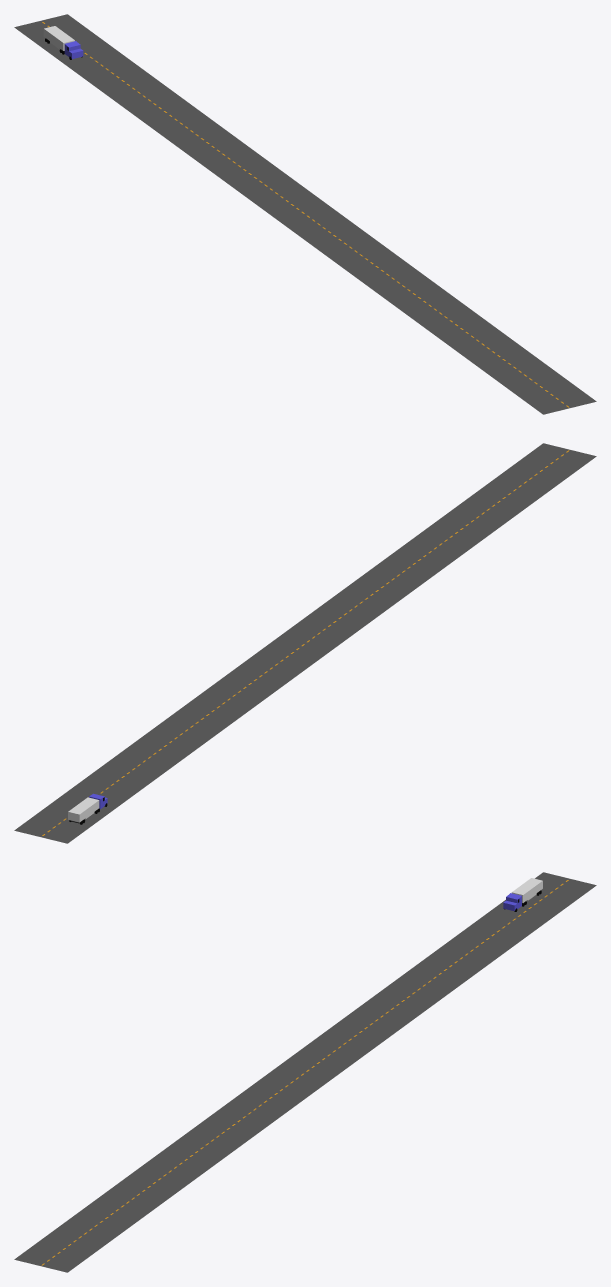
Rendered from LowPolyTruck.glb.
The picture shows the model from 3 angles, top to bottom: view 1: azimuth 30°, elevation 25°; view 2: azimuth 150°, elevation 25°; view 3: azimuth 330°, elevation 25°; orthographic projection.
Visible parts, largest first — view 1: Plane, Cube; view 2: Plane, Cube; view 3: Plane, Cube.
Boxes of the visible parts, box(x1,y1,x2,y2) form: Plane: box(14, 14, 596, 414); Cube: box(43, 26, 83, 59); Plane: box(14, 443, 596, 843); Cube: box(68, 793, 107, 824); Plane: box(14, 872, 596, 1272); Cube: box(503, 878, 542, 911).
Bounding box in the file's own units: 9.33 × 1.96 × 159.
